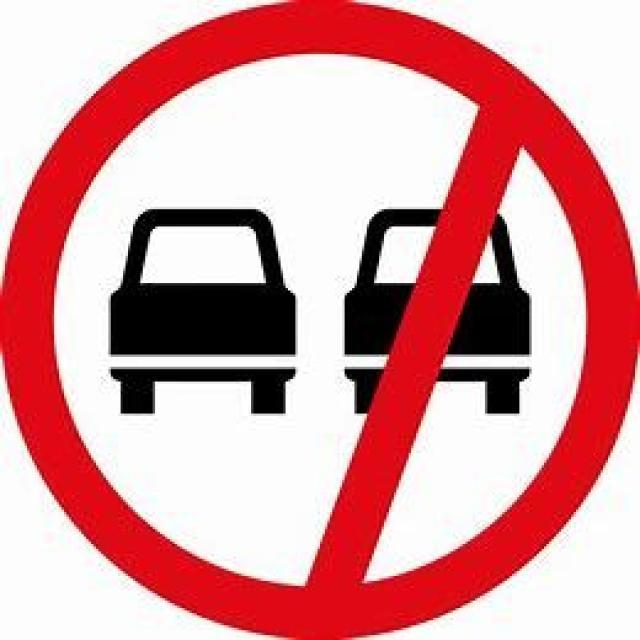overtaking prohibited: (23, 22, 609, 616)
